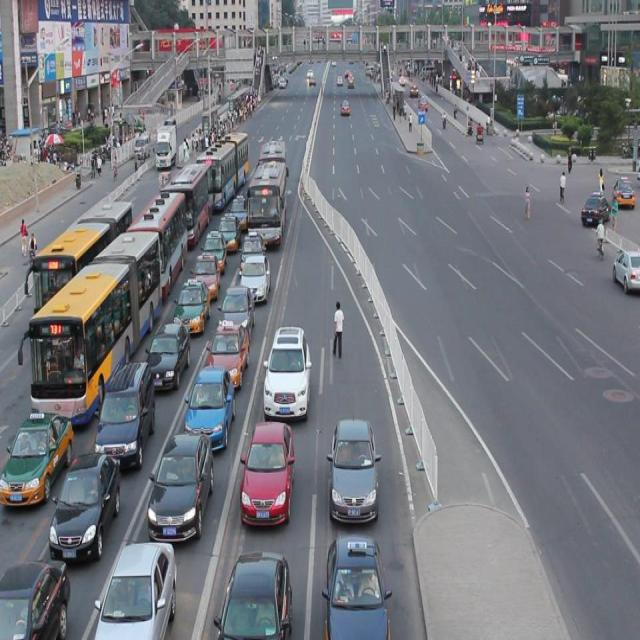car: (49, 459, 120, 564), (96, 548, 176, 640), (149, 441, 214, 547), (323, 539, 391, 640), (0, 416, 72, 508), (215, 558, 291, 640), (97, 368, 154, 472), (240, 428, 294, 528), (328, 426, 380, 526), (0, 566, 69, 640), (264, 334, 312, 424), (187, 373, 234, 454), (148, 329, 191, 395), (208, 328, 249, 393), (220, 291, 255, 349), (174, 284, 210, 338), (610, 248, 640, 292), (240, 263, 270, 306), (192, 261, 220, 302), (608, 177, 640, 209), (580, 191, 610, 225), (201, 234, 226, 274), (240, 237, 266, 274), (215, 218, 240, 255), (228, 200, 249, 235)
van: (18, 238, 161, 430), (26, 201, 131, 322), (122, 196, 188, 304), (196, 136, 249, 214), (163, 168, 212, 250), (247, 167, 286, 249), (258, 146, 288, 210)
